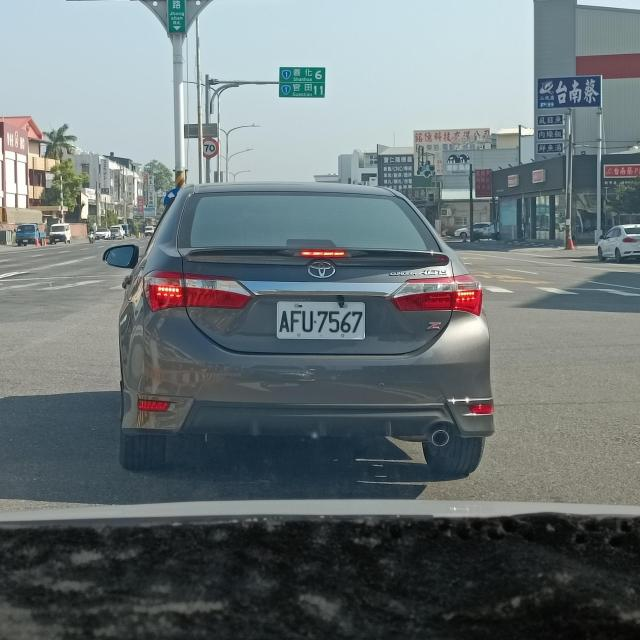W: (272, 295, 368, 340)
